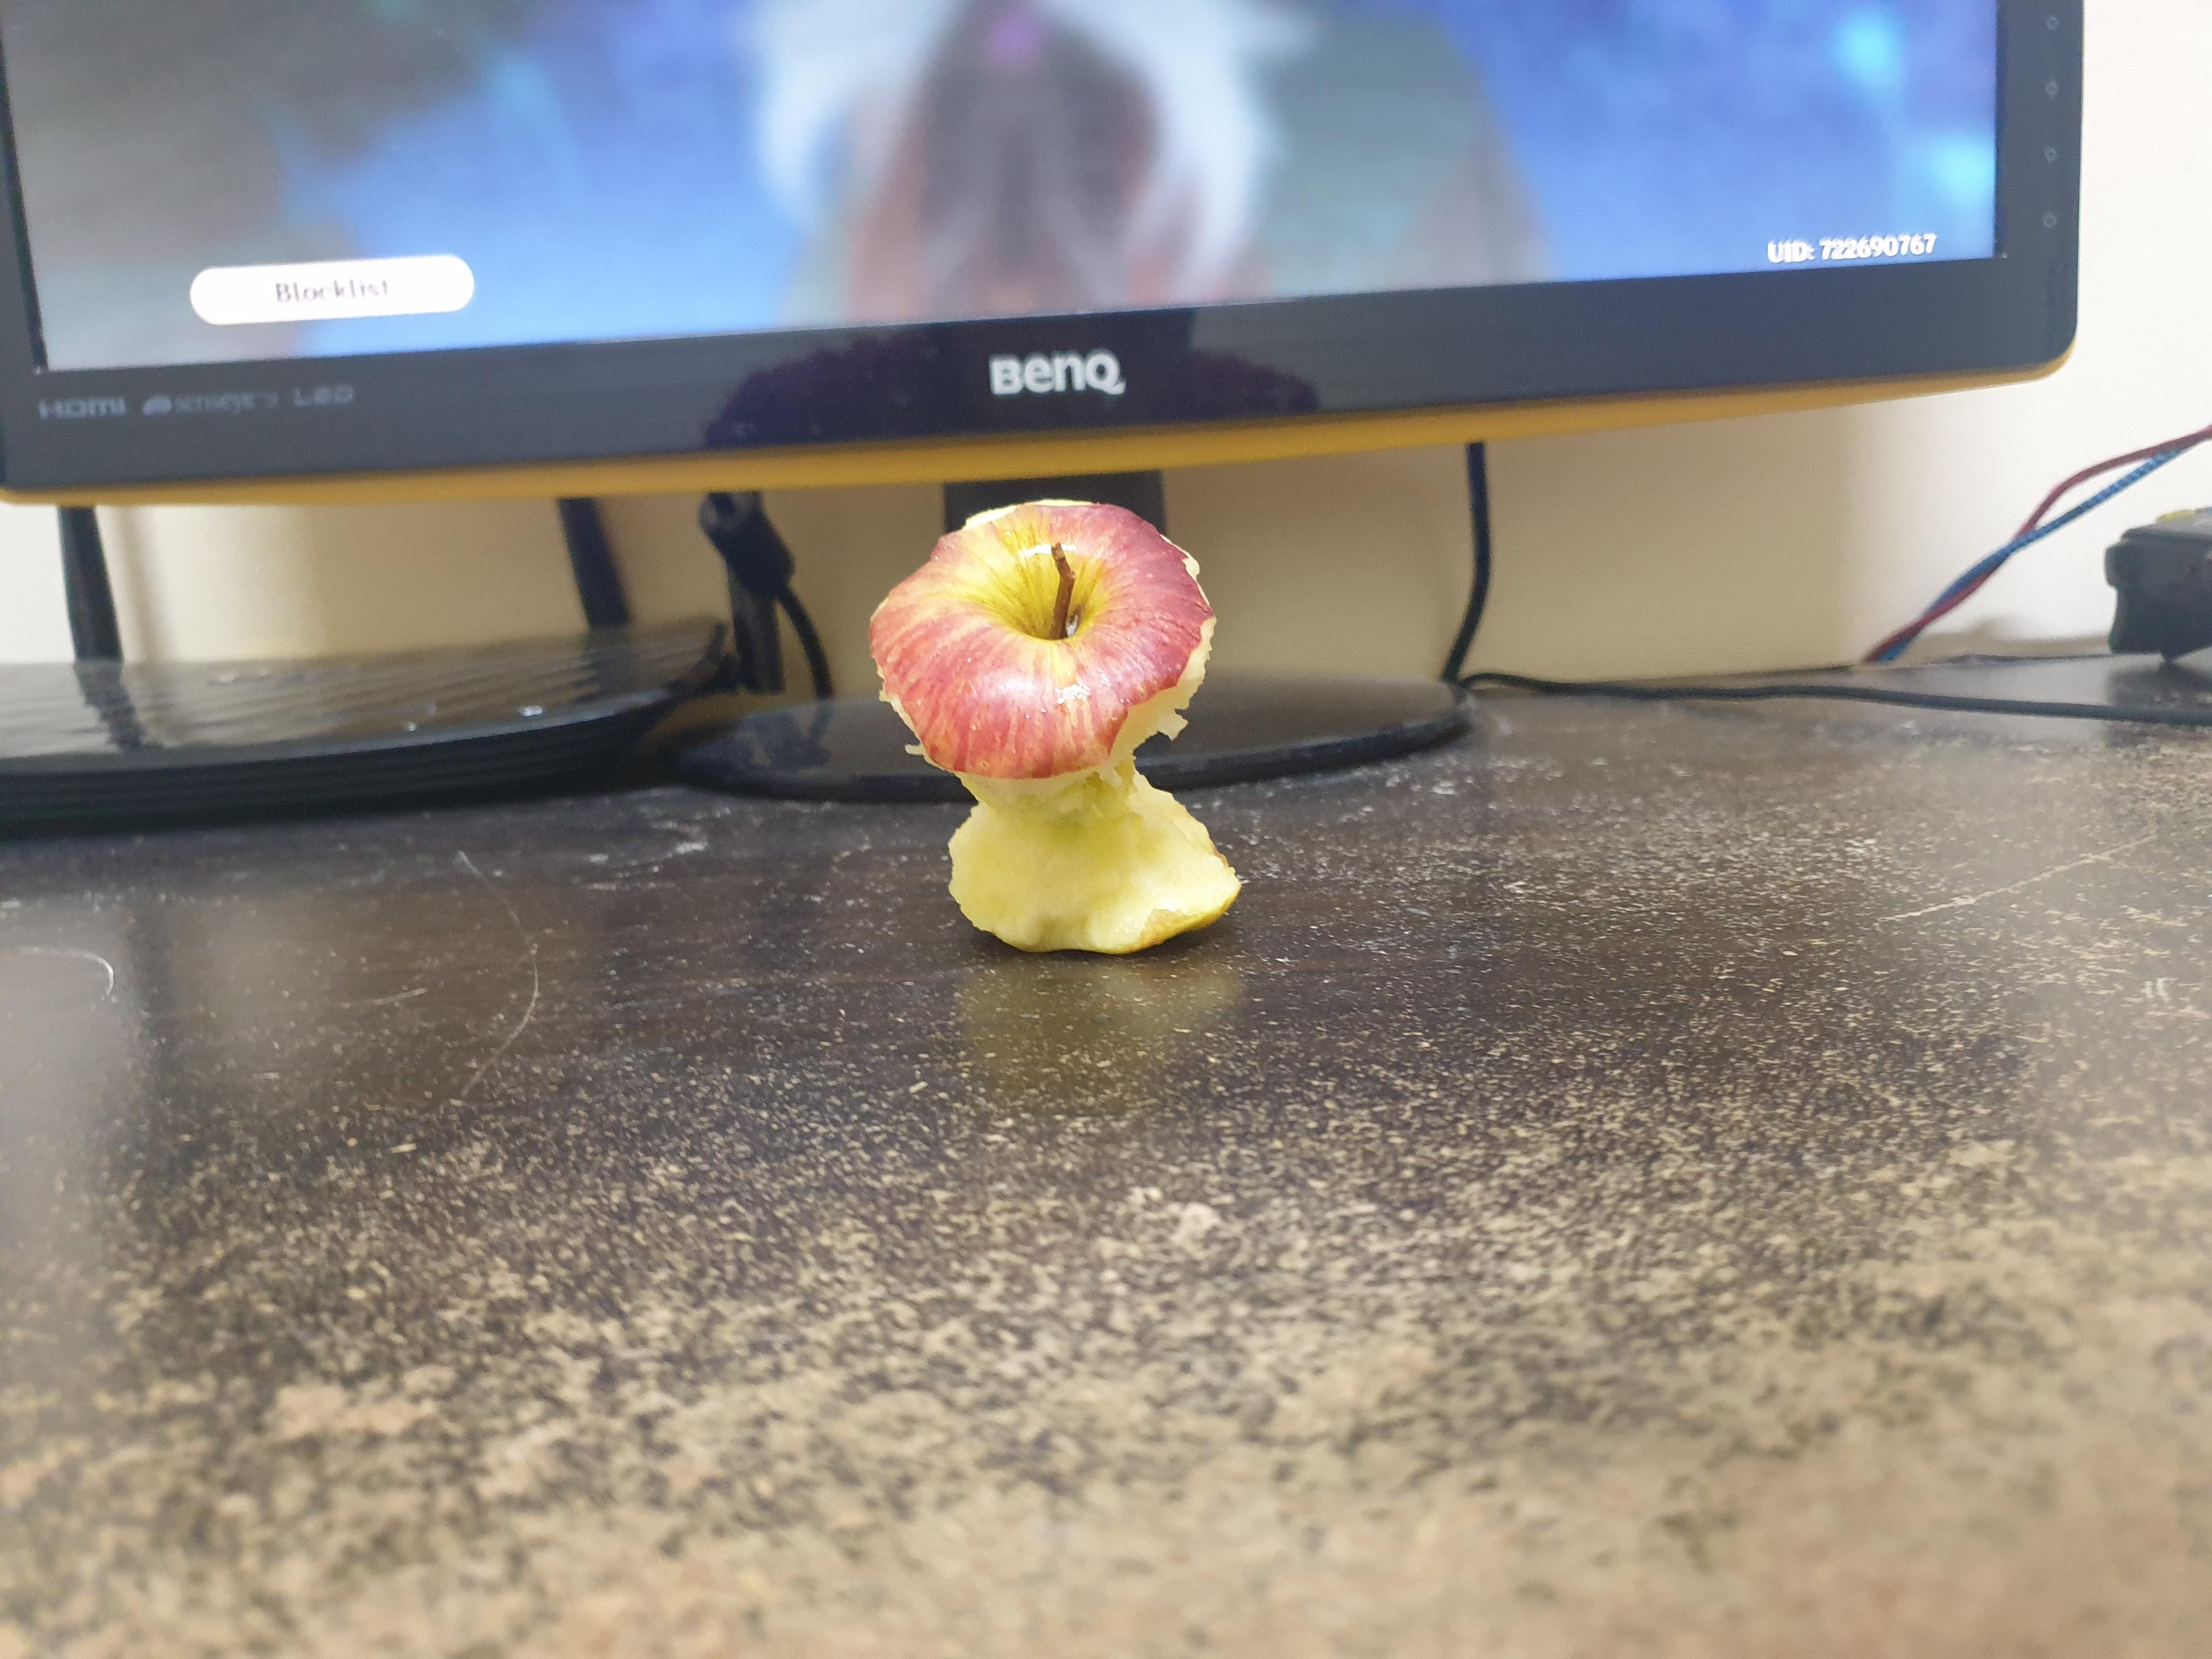Apple: (852, 458, 1261, 1002)
